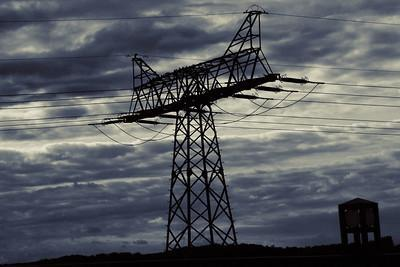power_tower: (97, 2, 302, 261)
